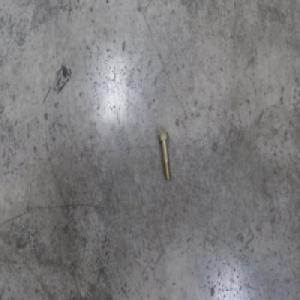Bolt: (157, 132, 171, 181)
